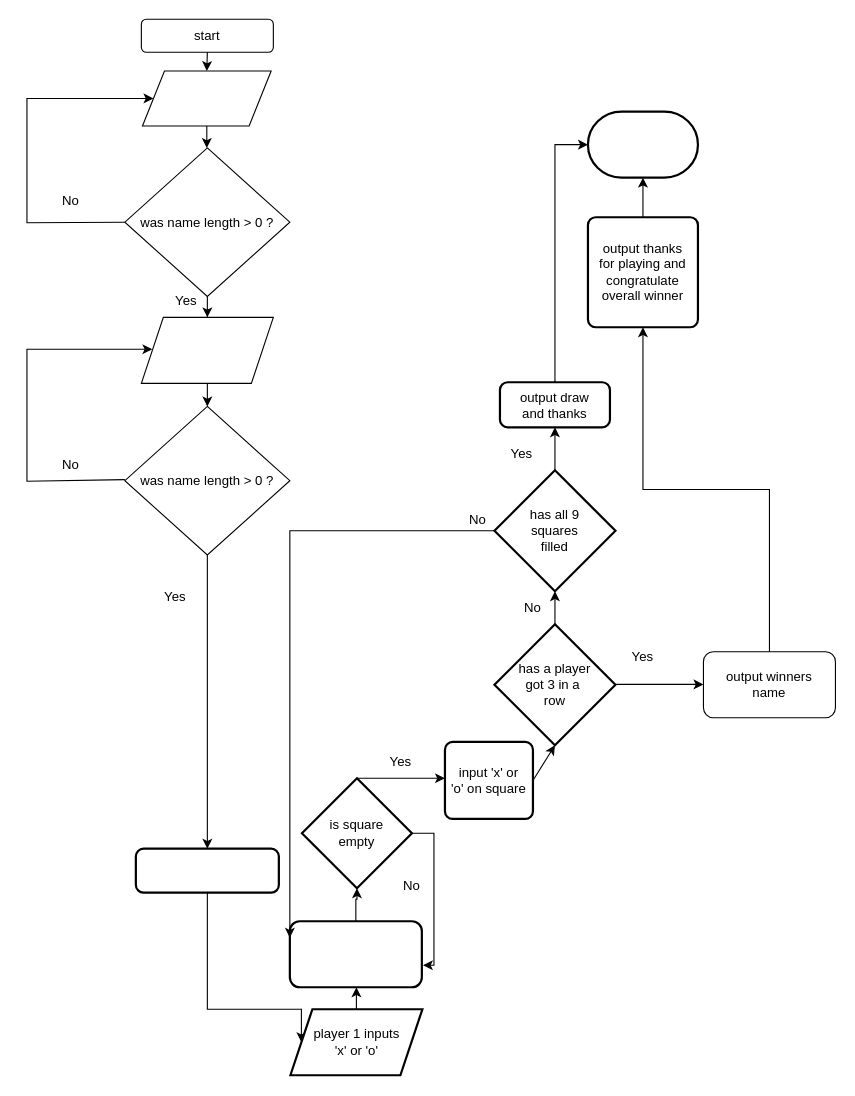
Image size: 855x1096. Some labels were removed from this diagram. The box of each missing label's shape, as (x1, y1, x2, y2) in pixels:
display blank board: (134, 847, 279, 893)
end: (586, 110, 698, 178)
input player 1 name: (141, 70, 271, 126)
input player 2 name: (140, 316, 273, 383)
player chooses square: (288, 920, 422, 988)
